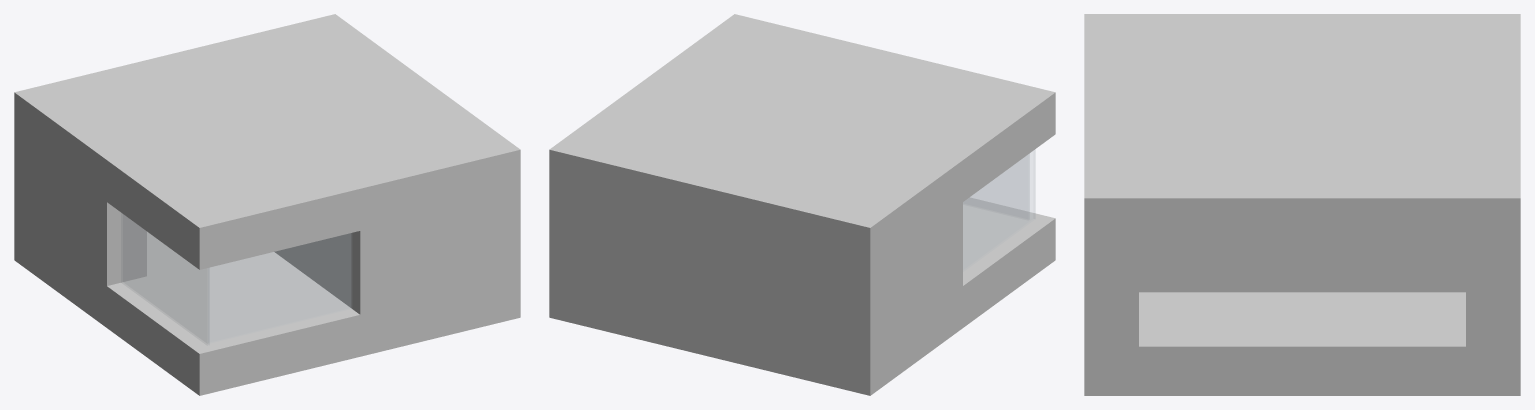
File: Mixed_Group_001.001.glb
The picture shows the model from 3 angles, left to right: view 1: azimuth 30°, elevation 25°; view 2: azimuth 150°, elevation 25°; view 3: azimuth 270°, elevation 25°; orthographic projection. The views are drawn at different scales.
Parts seen in each view (by area): view 1: Module_Cube_2x2x1, Module_L_Shape_Window.005, Module_L_Shape_Window.004; view 2: Module_Cube_2x2x1, Module_L_Shape_Window.004, Module_L_Shape_Window.005; view 3: Module_Cube_2x2x1.
Part boxes in pixels (x1=…): Module_Cube_2x2x1: x1=14, y1=14, x2=520, y2=395; Module_L_Shape_Window.005: x1=209, y1=233, x2=351, y2=342; Module_L_Shape_Window.004: x1=121, y1=214, x2=209, y2=345; Module_Cube_2x2x1: x1=549, y1=14, x2=1055, y2=395; Module_L_Shape_Window.004: x1=963, y1=149, x2=1035, y2=271; Module_L_Shape_Window.005: x1=963, y1=154, x2=1029, y2=219; Module_Cube_2x2x1: x1=1084, y1=14, x2=1520, y2=395.
Bounding box in the file's own units: 4 × 2 × 4.
